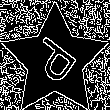P_SE: (25, 31, 85, 91)
